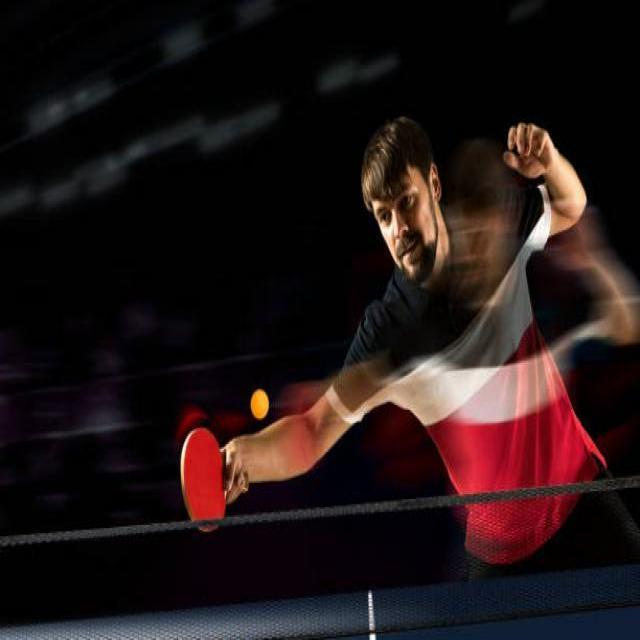oball: (251, 387, 269, 418)
